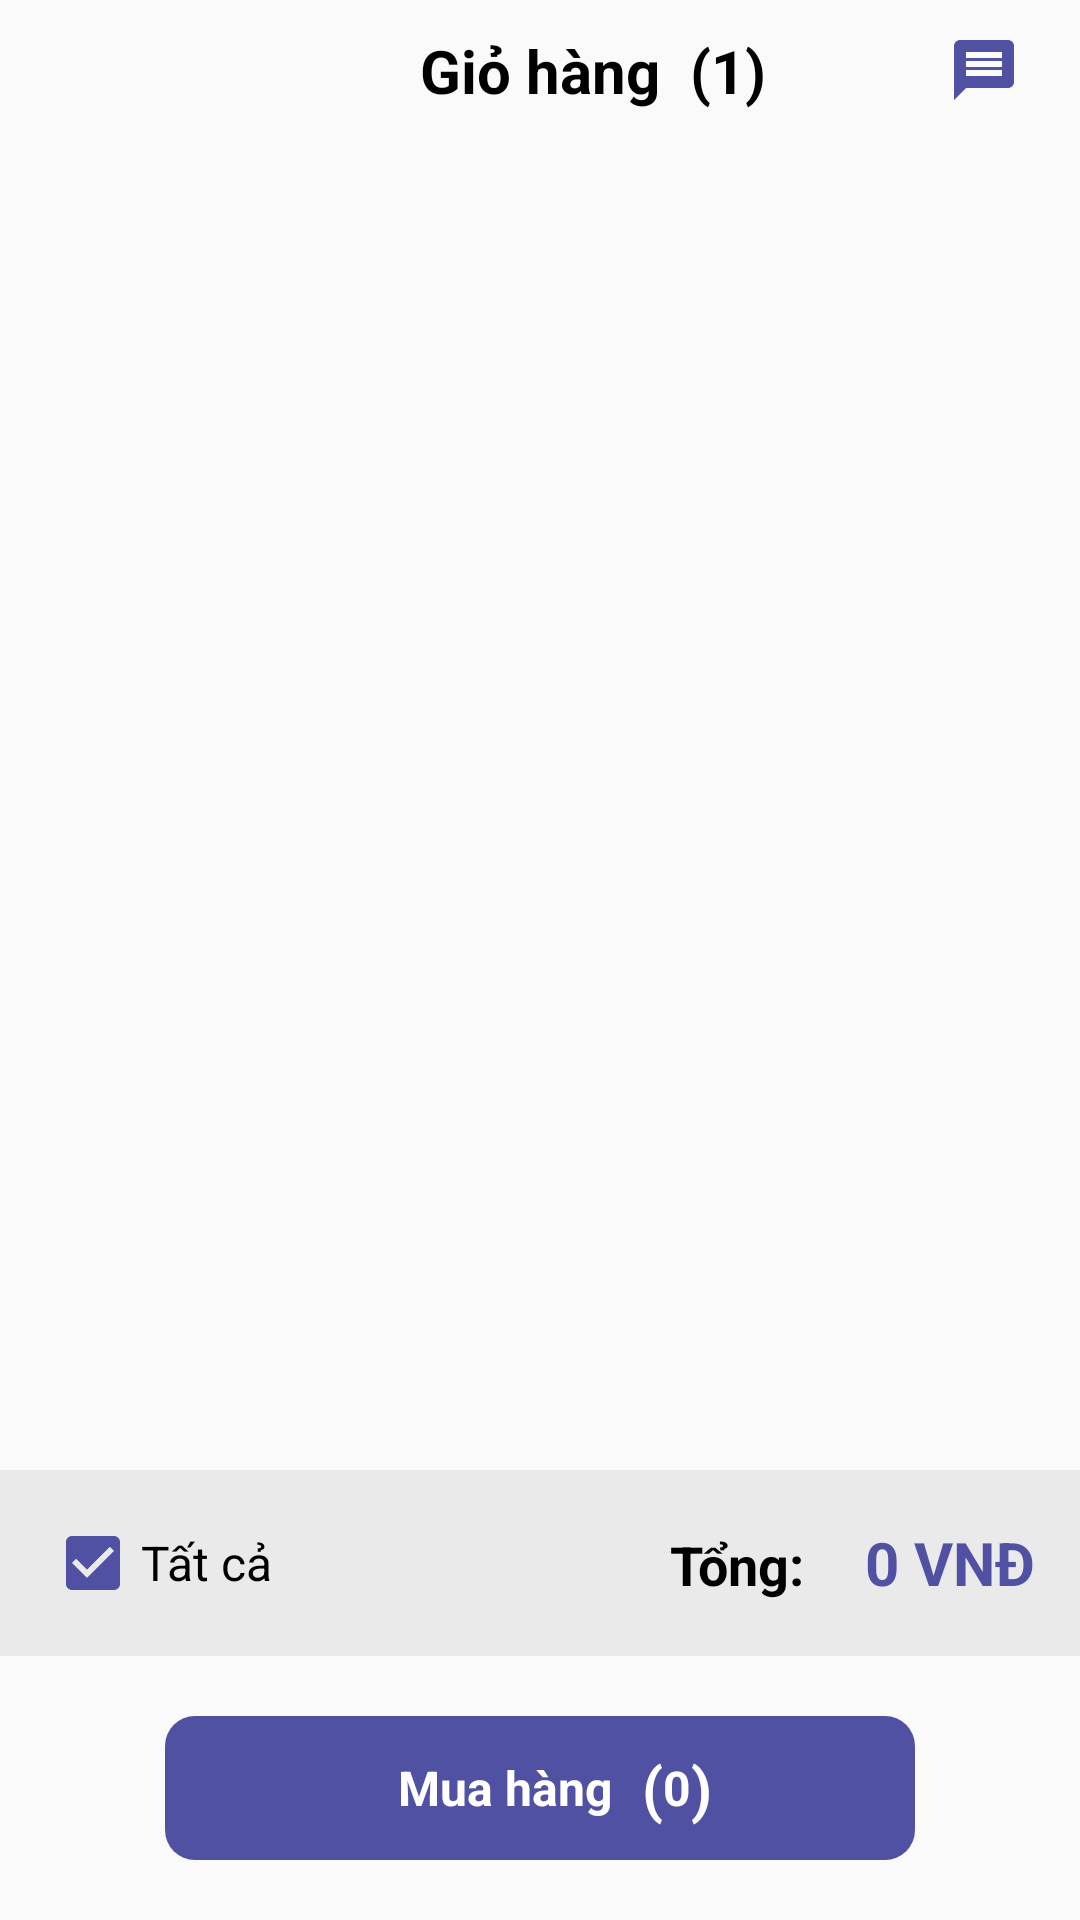

Locate icon controls on the screen. Image size 1080px×1920px, boxes as [x1, y1, x2, y2].
chat: [954, 40, 1014, 100]
